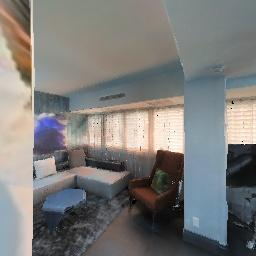chair: (123, 142, 188, 224)
sofa: (26, 144, 131, 201)
